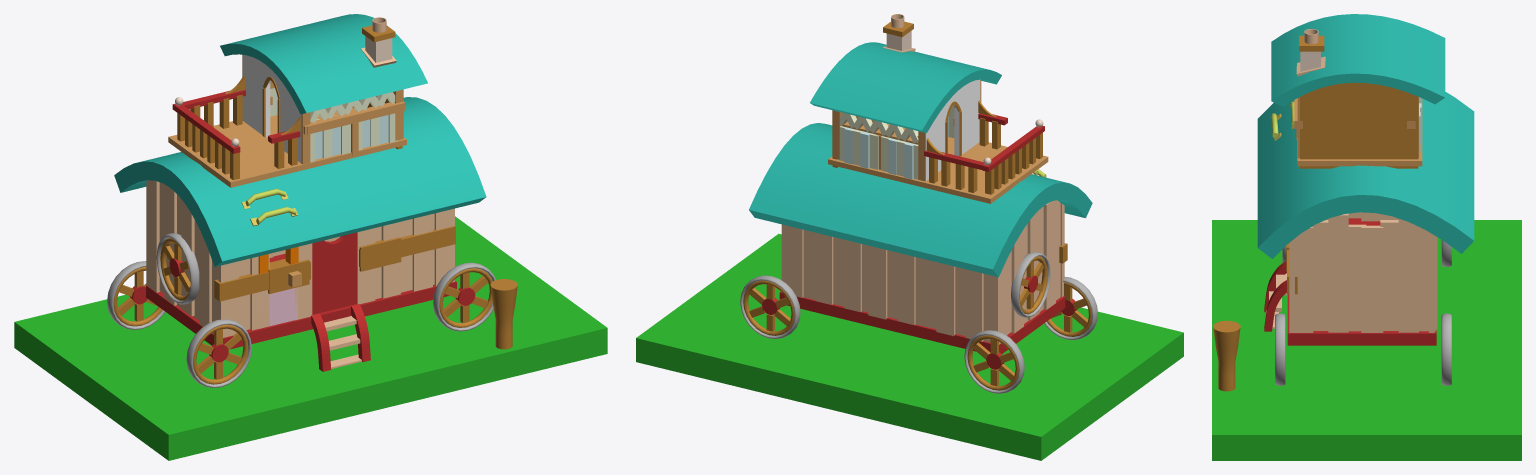
3 renders of one model, left to right at view 1: azimuth 30°, elevation 25°; view 2: azimuth 150°, elevation 25°; view 3: azimuth 270°, elevation 25°, orthographic. The views are drawn at different scales.
Parts seen in each view (by area): view 1: Box175, Loft003, Loft004, Box069, Torus002 (×4), Box007, Box056, Box121, Torus001 (×2), Cylinder008, Box028, Box021 (+20 smaller); view 2: Box175, Loft003, Loft004, Torus002 (×4), Box007, Box069, Box121, Box035, Box040, Torus001 (×2), Box044, Box042 (+15 smaller); view 3: Box175, Loft003, Loft004, Box120, Box055, Box049, Box007, Box053, Box051, Box054, Box050, Torus002 (×2) (+10 smaller).
Boxes of the visible parts, x1,y1,x2,y2 form: Box175: (14, 216, 607, 460); Loft003: (114, 97, 486, 266); Loft004: (220, 14, 427, 114); Box069: (168, 104, 406, 187); Torus002 (×4): (107, 233, 495, 387); Box007: (146, 253, 456, 349); Box056: (312, 232, 357, 314); Box121: (242, 55, 301, 163); Torus001 (×2): (193, 268, 492, 384); Cylinder008: (490, 279, 517, 349); Box028: (146, 180, 160, 292); Box021: (412, 214, 432, 291); Box175: (636, 233, 1183, 460); Loft003: (749, 123, 1092, 277); Loft004: (810, 42, 1001, 133); Torus002 (×4): (740, 252, 1097, 393); Box007: (779, 291, 1065, 353); Box069: (828, 123, 1048, 203); Box121: (925, 79, 980, 180); Box035: (936, 262, 955, 336); Box040: (868, 245, 887, 319); Torus001 (×2): (743, 280, 1018, 390); Box044: (815, 233, 833, 304); Box042: (844, 239, 861, 312); Box175: (1212, 220, 1521, 460); Loft003: (1257, 92, 1474, 258); Loft004: (1271, 14, 1445, 106); Box120: (1300, 82, 1418, 168); Box055: (1361, 225, 1383, 332); Box049: (1328, 213, 1348, 332); Box007: (1287, 218, 1436, 345); Box053: (1398, 219, 1418, 332); Box051: (1295, 227, 1313, 332); Box054: (1380, 220, 1398, 330); Box050: (1312, 220, 1328, 330); Torus002 (×2): (1275, 313, 1451, 385).
Bounding box in the file's own units: 16.9 × 12.54 × 10.3.
